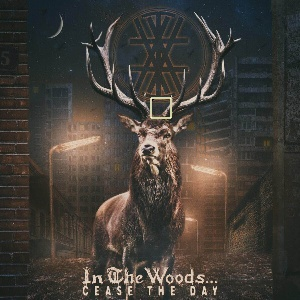square: (149, 95, 175, 121)
